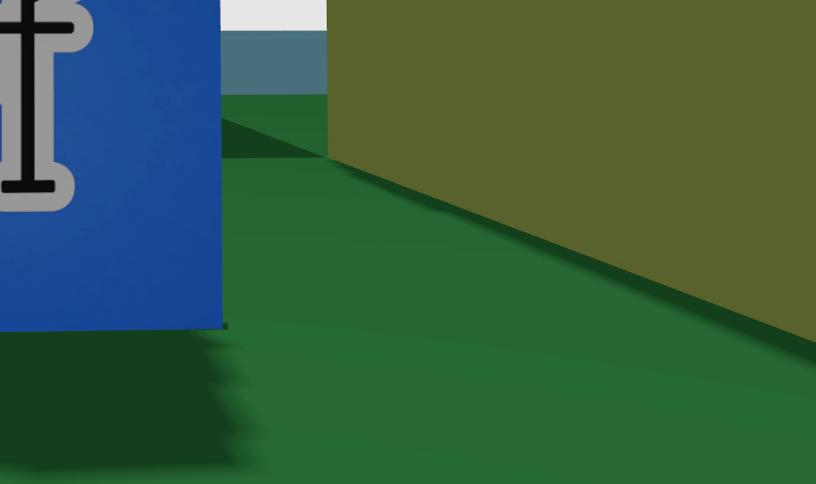KFS_REAL: (0, 0, 223, 331), (0, 0, 93, 211)
